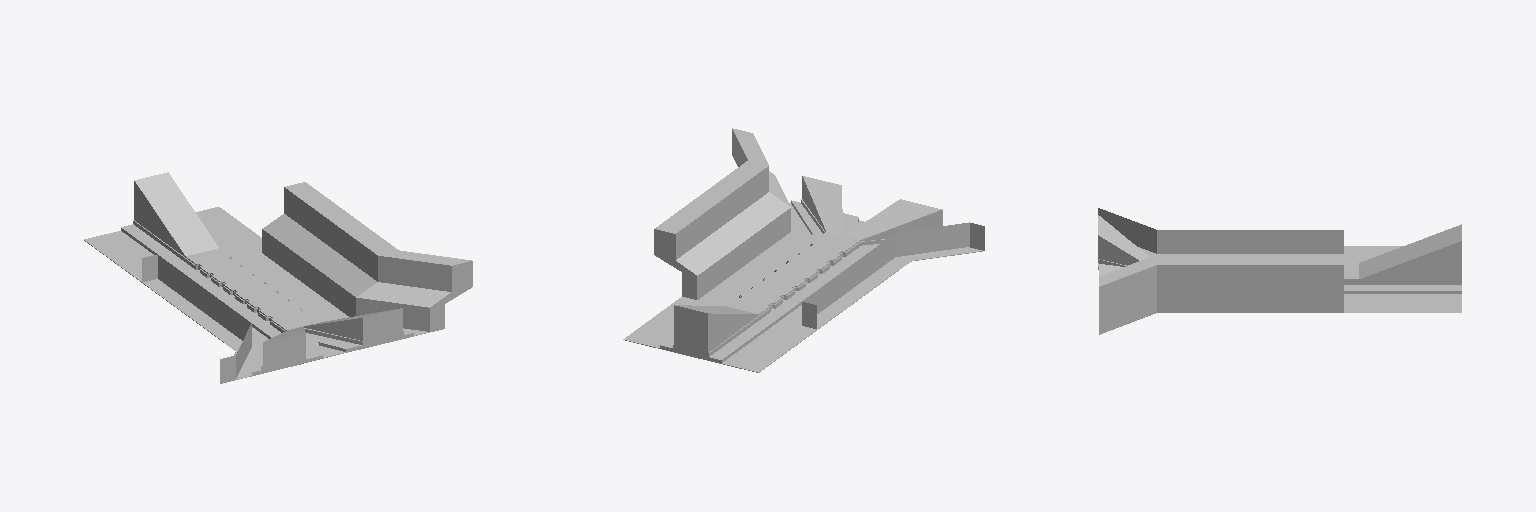
Rendered from Room1c.obj.
3 renders of one model, left to right at view 1: azimuth 30°, elevation 25°; view 2: azimuth 150°, elevation 25°; view 3: azimuth 270°, elevation 25°, orthographic.
Visible parts, largest first — view 1: polySurface9; view 2: polySurface9; view 3: polySurface9.
Boxes of the visible parts, box(x1,y1,x2,y2) form: polySurface9: box(84, 172, 472, 383); polySurface9: box(623, 128, 984, 372); polySurface9: box(1098, 208, 1461, 334).
Bounding box in the file's own units: 13.54 × 3.15 × 16.84.